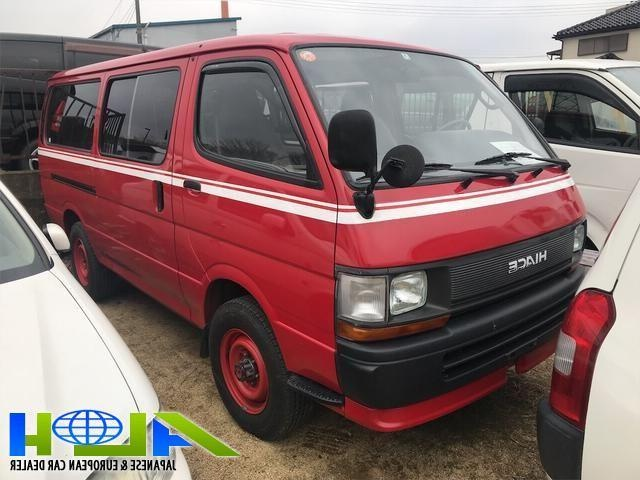van: (36, 39, 586, 416)
